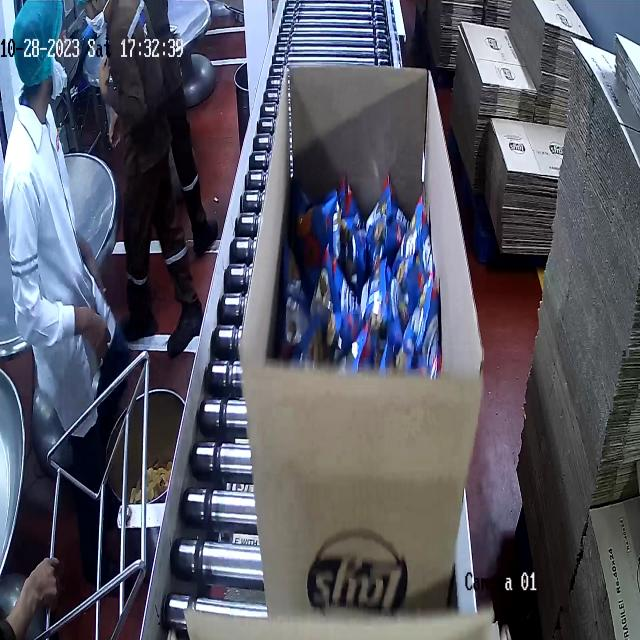PAPRIKA: (278, 182, 437, 382)
